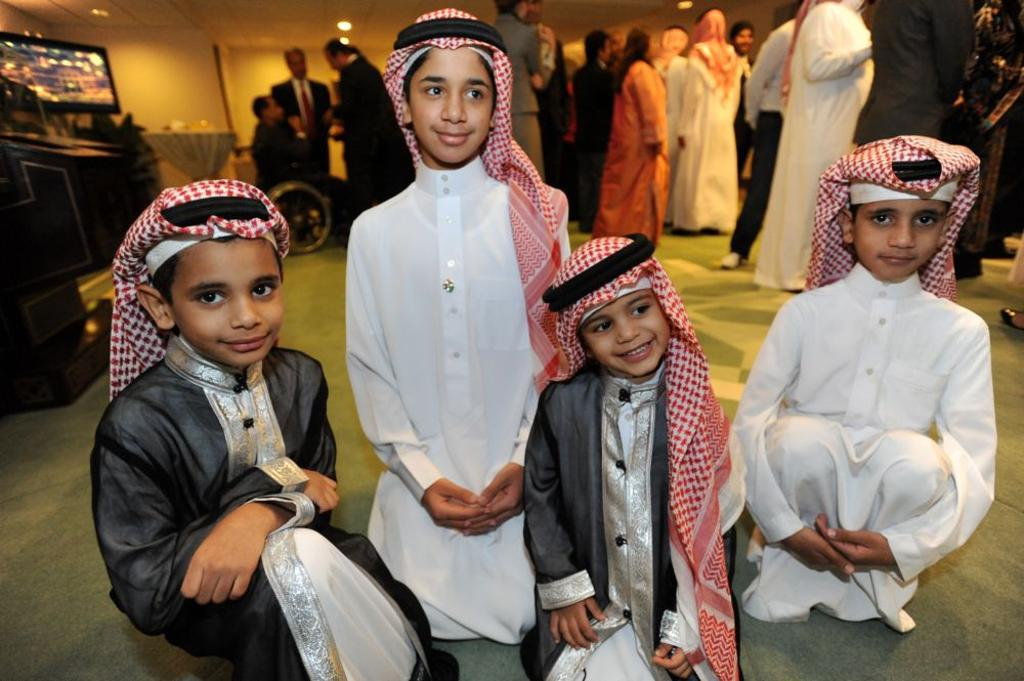face: (171, 246, 283, 365), (412, 54, 494, 164), (577, 284, 672, 375), (856, 191, 950, 279), (735, 31, 754, 54), (264, 101, 283, 121), (644, 37, 660, 60), (289, 57, 306, 78), (326, 55, 346, 71), (599, 42, 611, 61)
